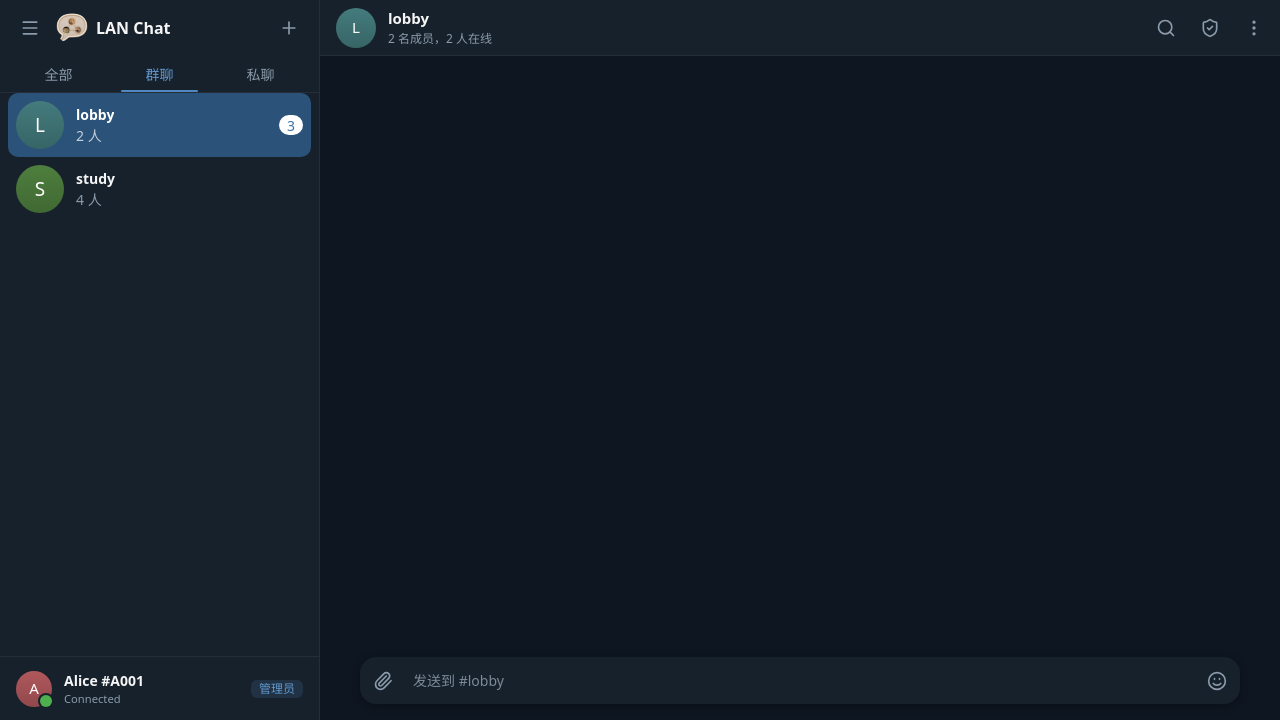
Test: WorkspacePage › keeps the administrator connection approval inbox available when it is empty
Click the button named "连接审批". click: (1210, 28)
box: [1192,10,1228,46]
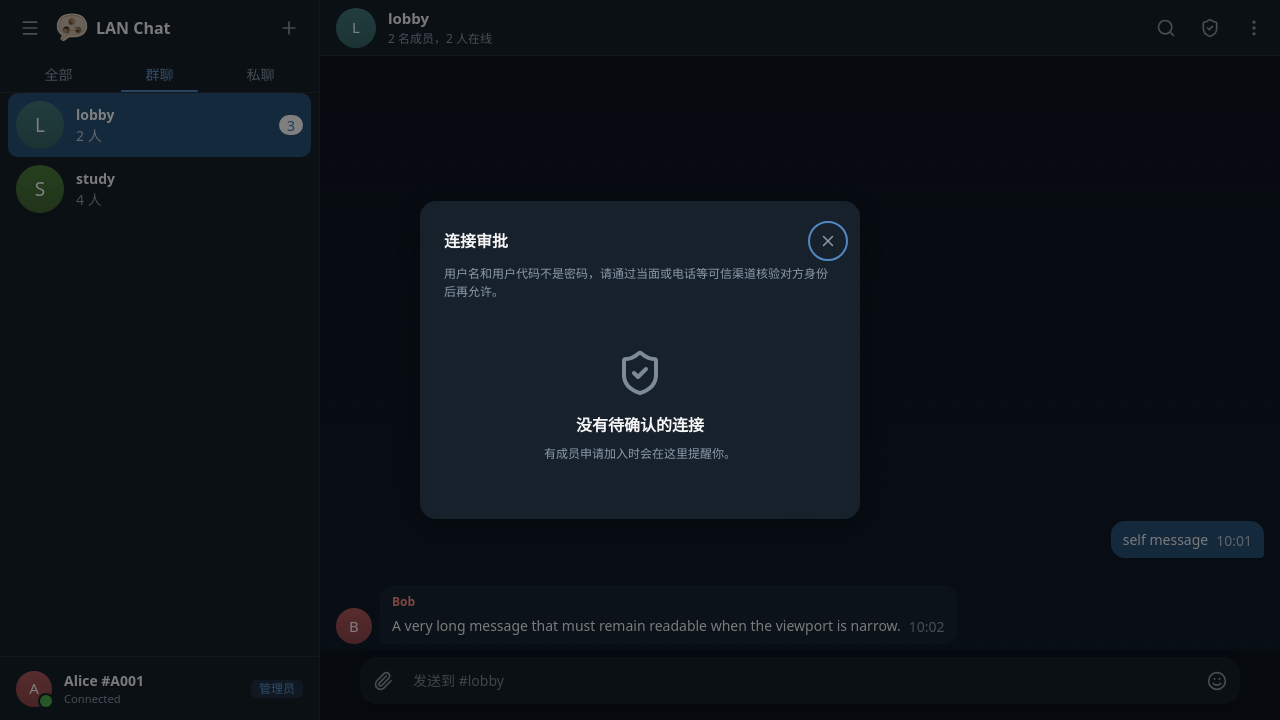
Check: the text "没有待确认的连接" is shown, box [576,413,704,437]
